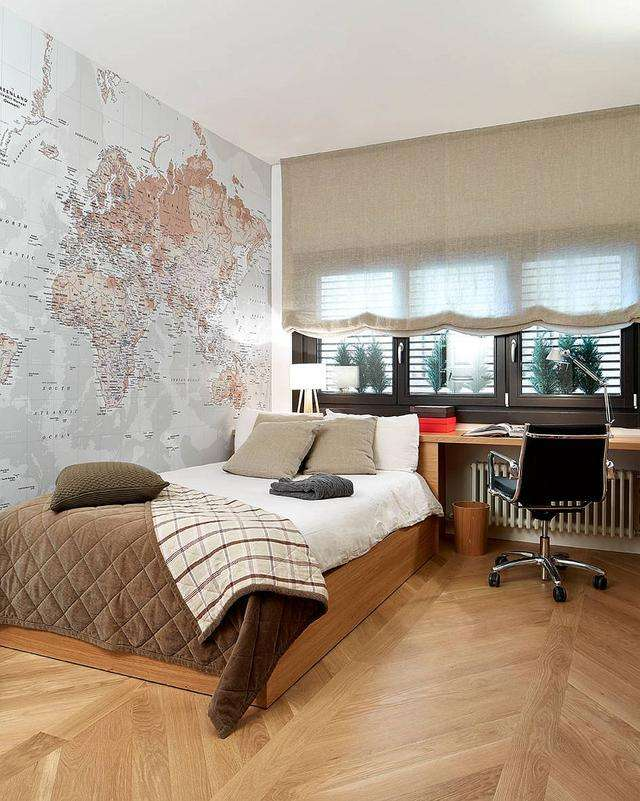床: (0, 464, 443, 699)
枕头: (216, 414, 429, 488), (39, 464, 170, 515)
灯: (537, 341, 631, 443)
